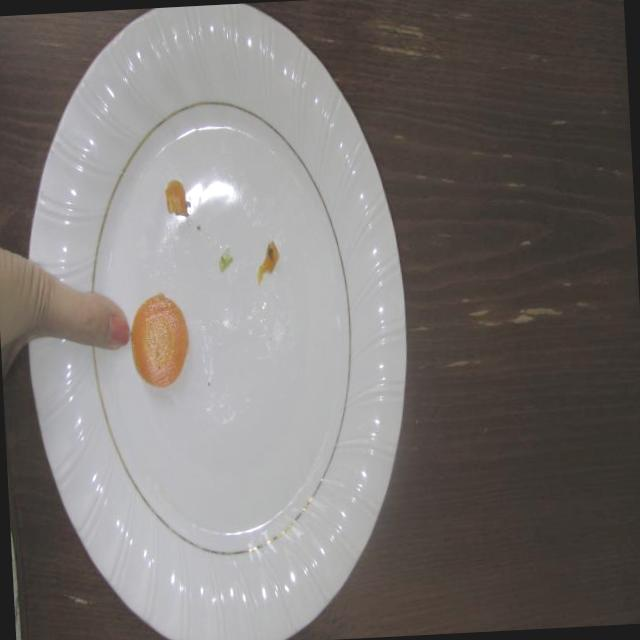Carrot: (128, 287, 195, 394)
Finger: (58, 273, 134, 361)
